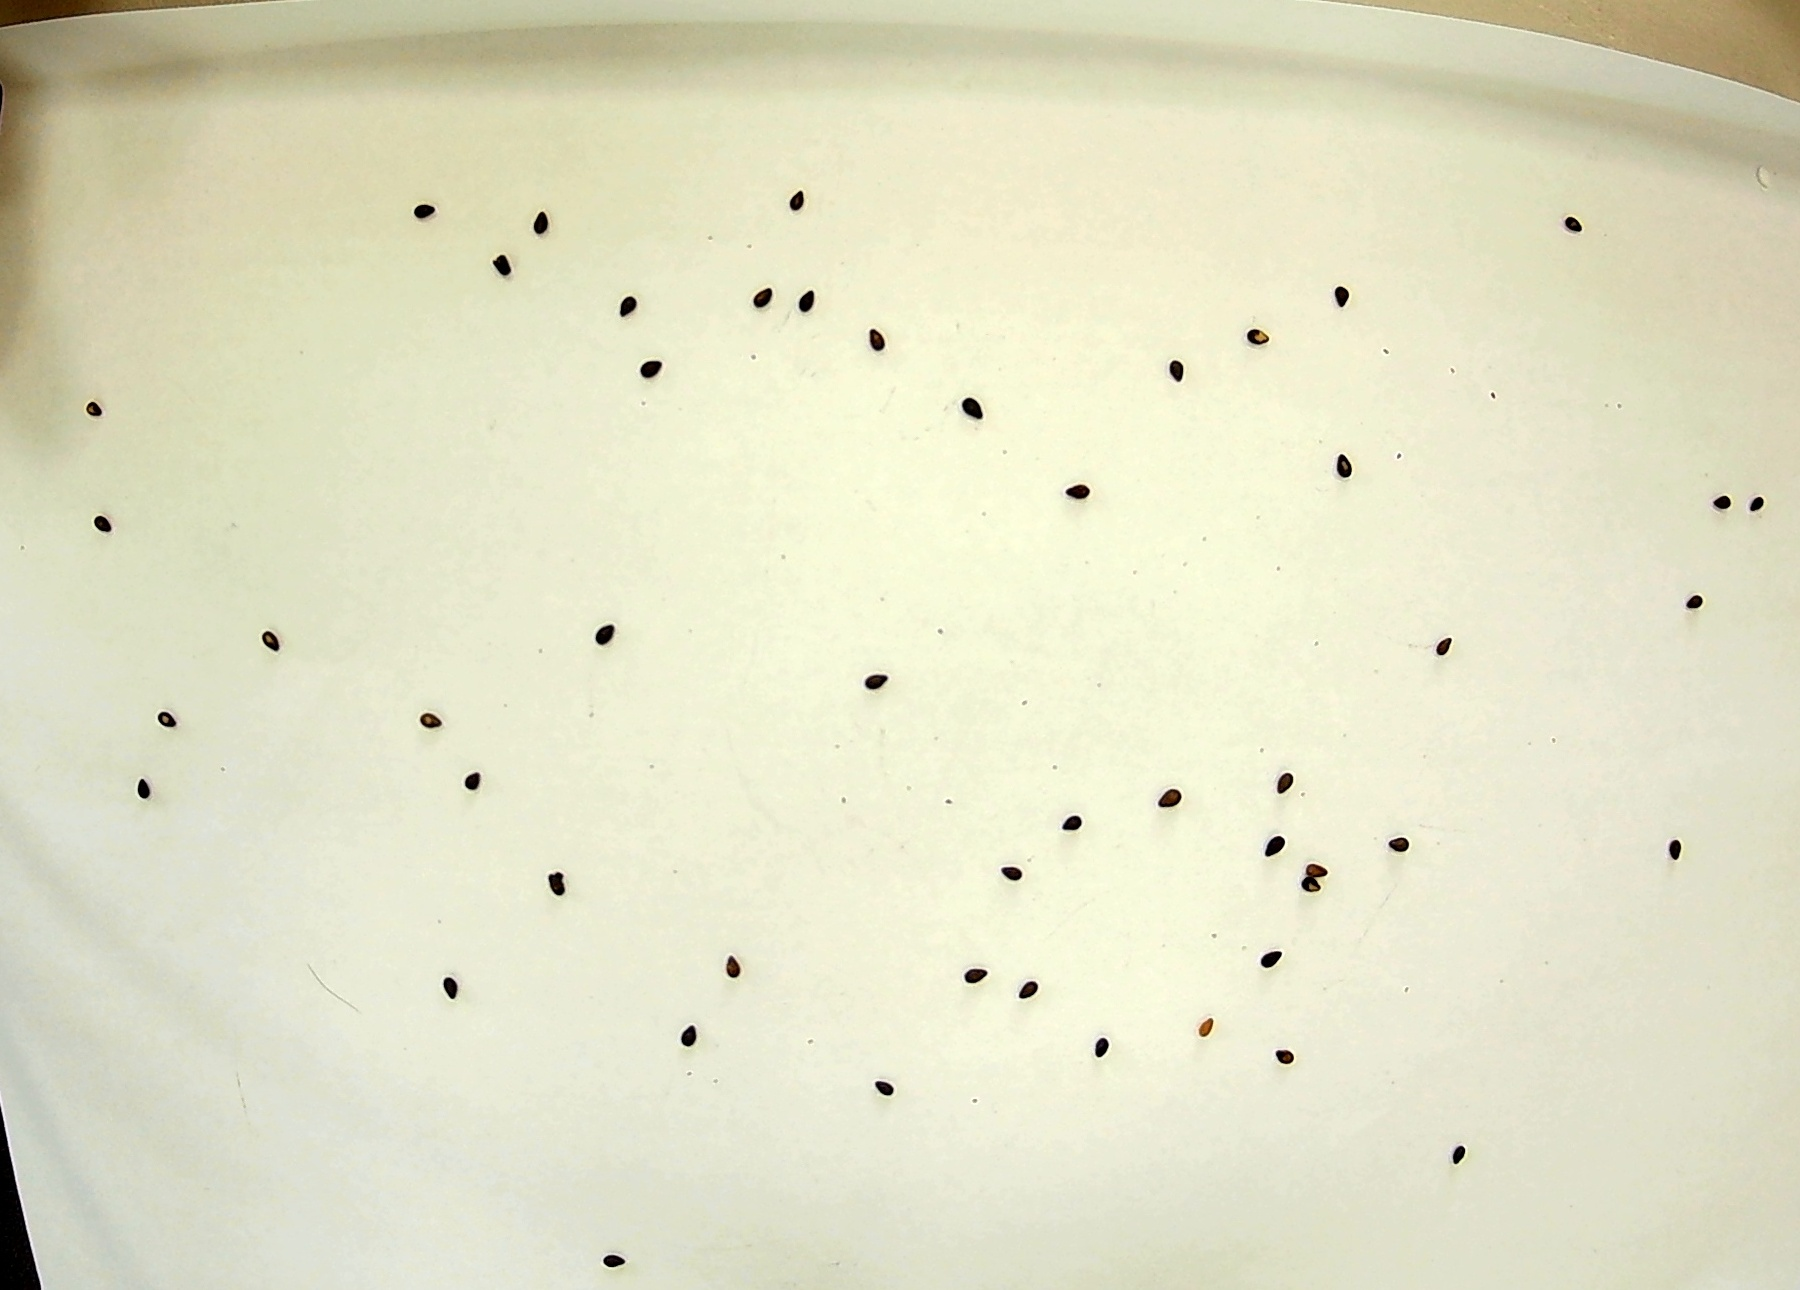sesami: (1326, 452, 1362, 491), (1235, 311, 1271, 350), (1561, 202, 1598, 242), (1697, 480, 1733, 519), (1677, 578, 1713, 617), (1388, 828, 1425, 867), (1299, 873, 1335, 912), (1264, 1035, 1300, 1074), (1446, 1128, 1482, 1167), (1197, 1012, 1233, 1051), (1151, 776, 1187, 815), (1000, 859, 1037, 898), (968, 951, 1005, 990), (869, 1072, 906, 1111), (587, 1251, 624, 1290), (680, 1019, 716, 1058), (712, 947, 748, 986), (541, 857, 578, 896), (453, 769, 490, 808), (412, 706, 448, 746), (250, 611, 286, 651), (142, 692, 179, 732), (126, 765, 162, 804), (95, 498, 131, 537), (77, 390, 113, 429), (392, 197, 428, 236), (603, 290, 639, 329), (632, 350, 668, 390), (578, 625, 614, 665), (857, 660, 893, 699), (1058, 462, 1094, 501), (1161, 343, 1197, 383), (961, 387, 998, 426), (848, 322, 885, 362), (781, 281, 818, 320), (773, 188, 809, 228), (1324, 281, 1360, 318), (1734, 482, 1771, 519), (1261, 831, 1298, 868), (1665, 820, 1700, 859), (1259, 769, 1293, 808), (1305, 839, 1340, 878), (1254, 942, 1289, 981), (1060, 800, 1095, 839), (1007, 969, 1042, 1008), (1100, 1026, 1134, 1065), (440, 967, 474, 1007), (486, 246, 520, 285), (520, 214, 555, 253), (751, 278, 786, 317), (1425, 616, 1460, 653)
